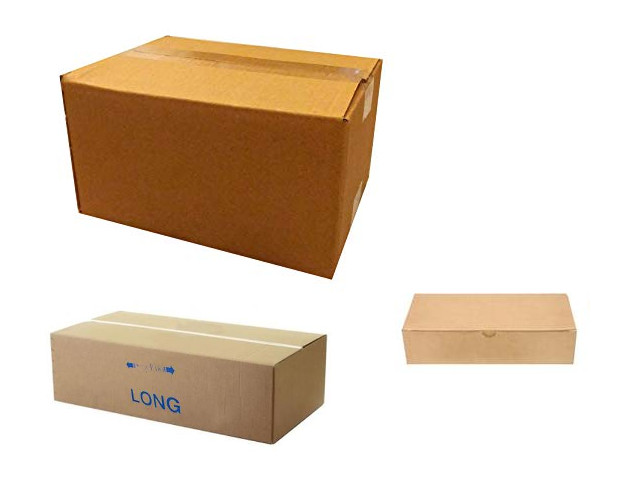cardboard: (61, 34, 385, 279), (52, 309, 328, 445), (402, 293, 578, 362)
